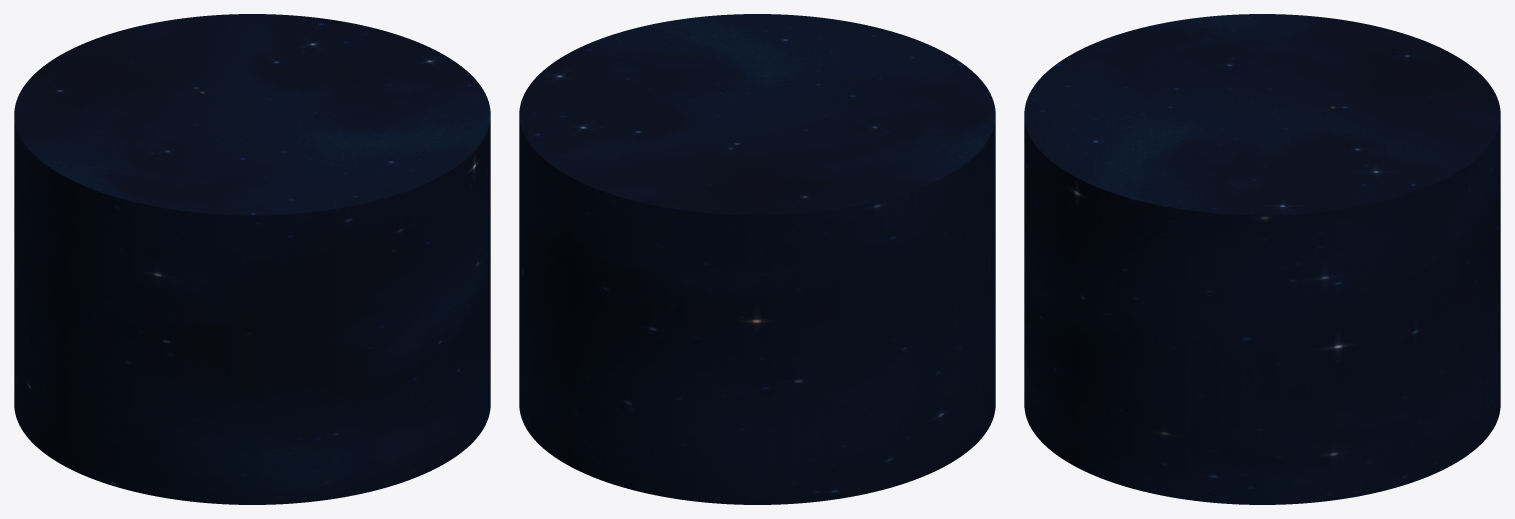
File: sky.gltf
The picture shows the model from 3 angles, left to right: view 1: azimuth 30°, elevation 25°; view 2: azimuth 150°, elevation 25°; view 3: azimuth 270°, elevation 25°; orthographic projection.
Parts seen in each view (by area): view 1: 円柱; view 2: 円柱; view 3: 円柱.
Boxes of the visible parts, x1,y1,x2,y2 form: 円柱: [14, 14, 490, 504]; 円柱: [519, 14, 995, 504]; 円柱: [1024, 14, 1500, 504].
Bounding box in the file's own units: 298 × 200 × 298.
Materials: 1 (1 with a texture image).
